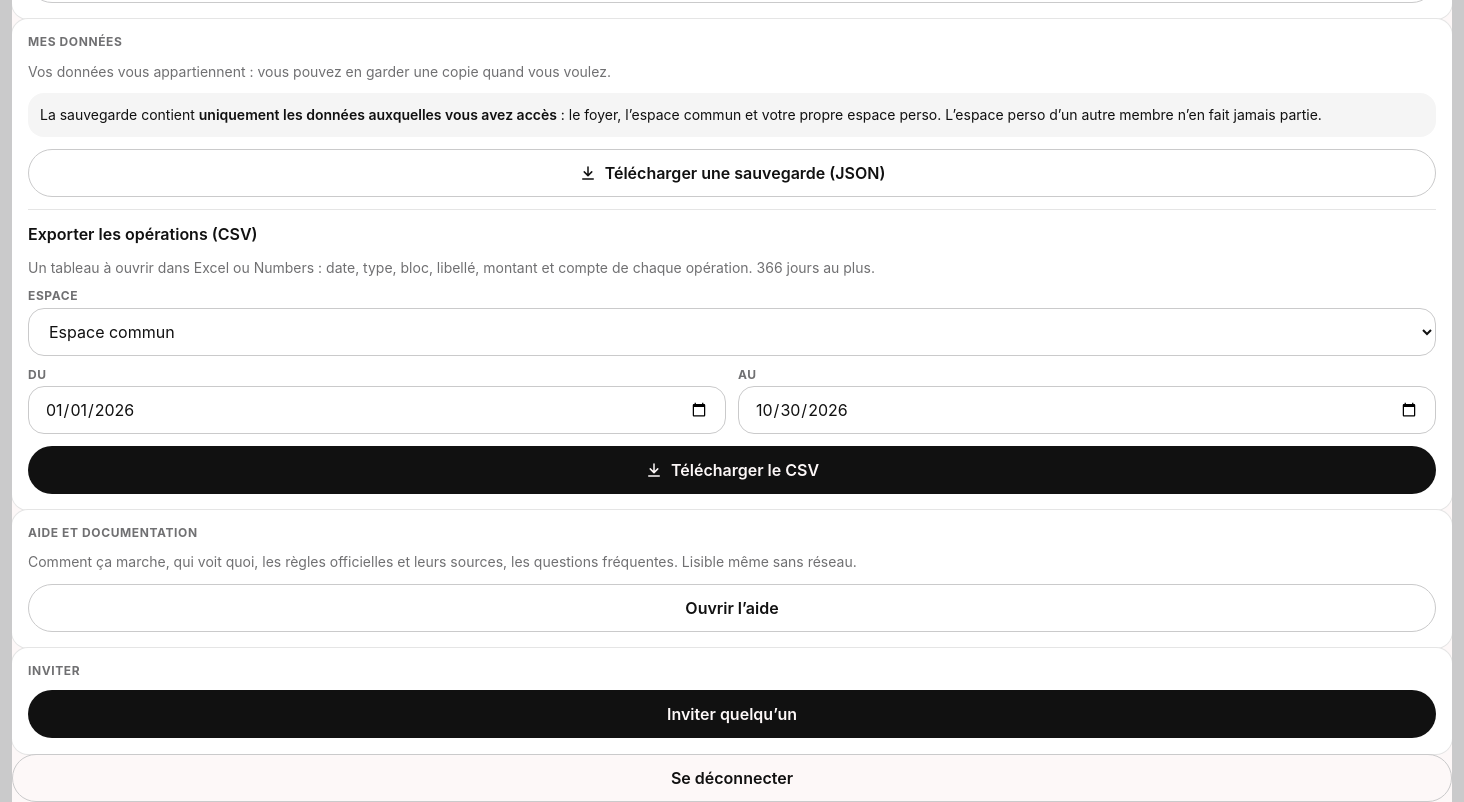
it: FoyerPage › shows the invitation code with a copy button
This screenshot has width=1464, height=802.
(page scrolled)
Click the button "Inviter quelqu’un" at (732, 714), box [28,690,1436,738]
(page scrolled)
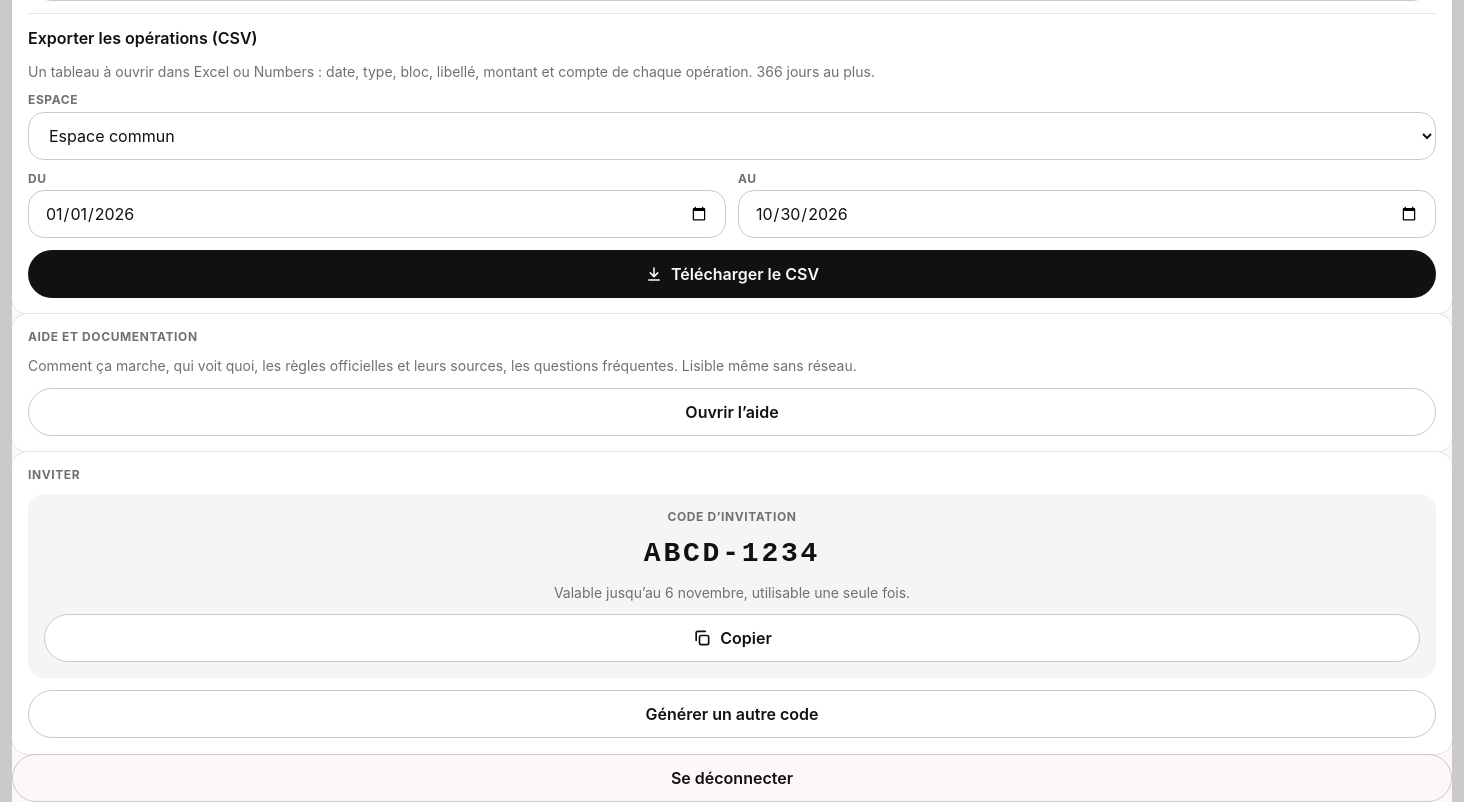
expect the text with test id "invitation-code" reads "ABCD-1234": met, box [644,538,820,569]
expect the button "Copier" is shown: met, box [44,614,1420,662]
